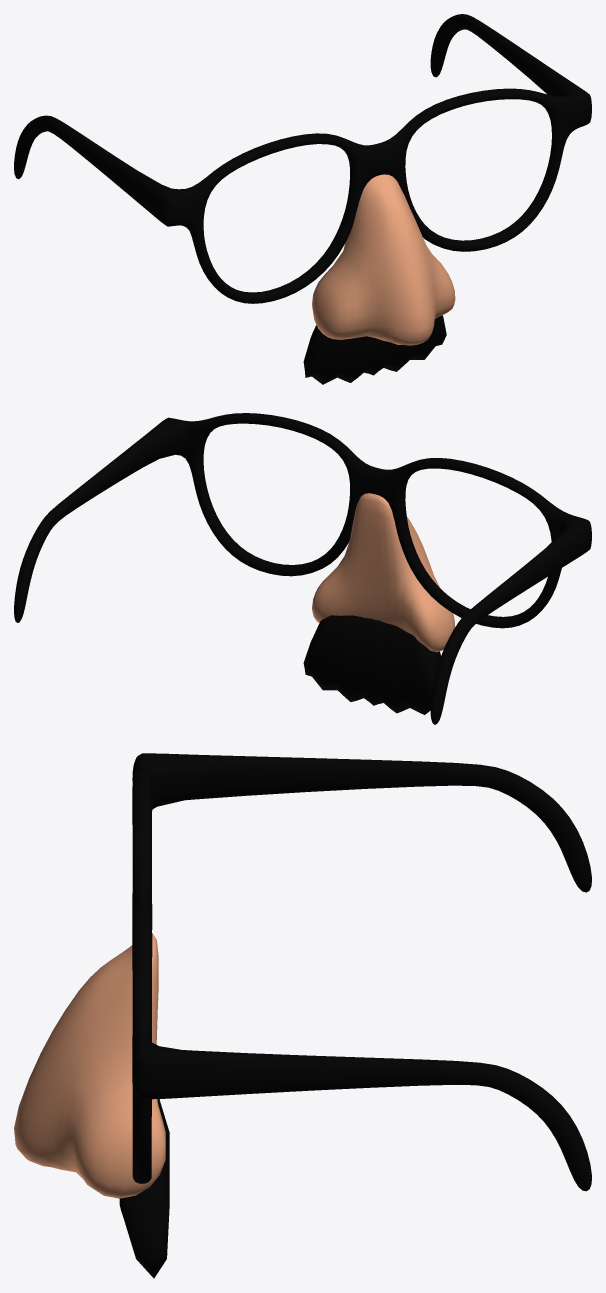
File: Groucho Glasses.fbx
3 views of the same model, one above another, from view 1: azimuth 30°, elevation 25°; view 2: azimuth 150°, elevation 25°; view 3: azimuth 270°, elevation 25° (orthographic). The views are drawn at different scales.
Visible parts, largest first — view 1: Groucho Glasses; view 2: Groucho Glasses; view 3: Groucho Glasses.
Boxes of the visible parts, x1,y1,x2,y2 form: Groucho Glasses: (14, 14, 591, 384); Groucho Glasses: (14, 413, 591, 724); Groucho Glasses: (14, 753, 591, 1278).
Bounding box in the file's own units: 102 × 80.91 × 59.79.
